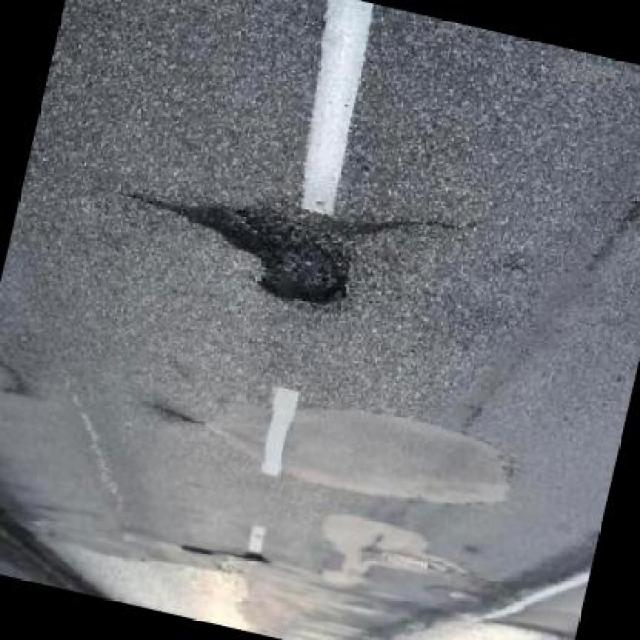pothole1: (175, 184, 372, 321), (235, 548, 270, 572), (177, 543, 214, 562)
